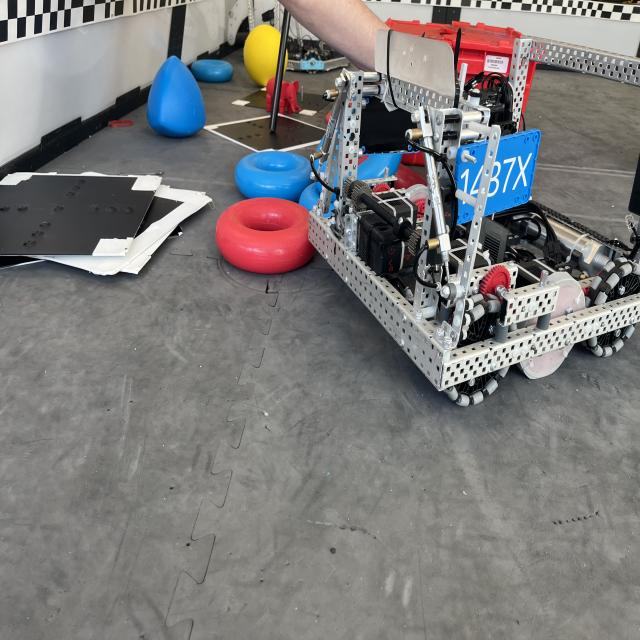Blue-Ring: (235, 152, 311, 203), (191, 60, 234, 82)
Red-Ring: (215, 198, 315, 273)
